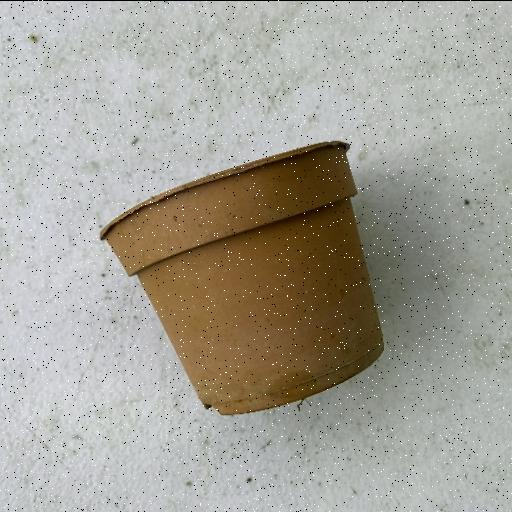Plastic: (97, 138, 386, 418)
